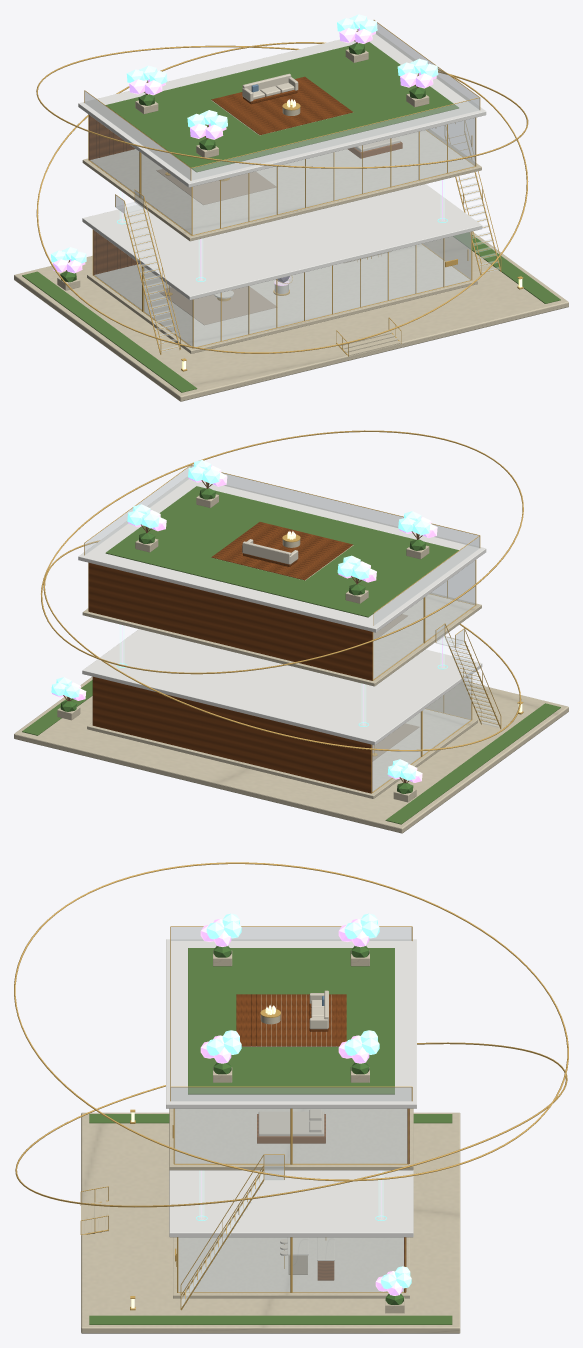
File: House5.glb
3 views of the same model, one above another, from view 1: azimuth 30°, elevation 25°; view 2: azimuth 150°, elevation 25°; view 3: azimuth 270°, elevation 25° (orthographic). The views are drawn at different scales.
Parts seen in each view (by area): view 1: House5, Base; view 2: House5, Base; view 3: House5, Base.
Boxes of the visible parts, box(x1,y1,x2,y2) form: House5: box(22, 14, 560, 392); Base: box(14, 231, 568, 401); House5: box(22, 430, 560, 824); Base: box(14, 676, 568, 833); House5: box(14, 862, 568, 1324); Base: box(81, 1112, 460, 1333).
Size of the model in its own units: 80.3 by 41.06 by 80.48.
Materials: 19 (3 with a texture image).
